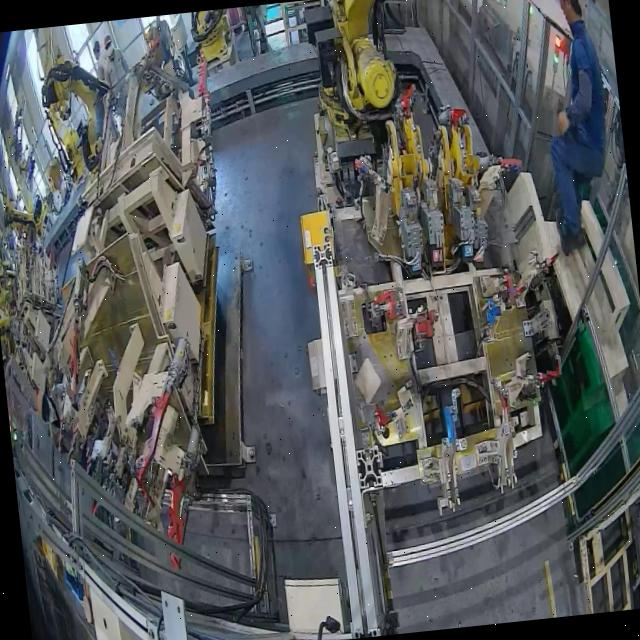Person: (529, 0, 619, 257), (90, 34, 123, 144)
